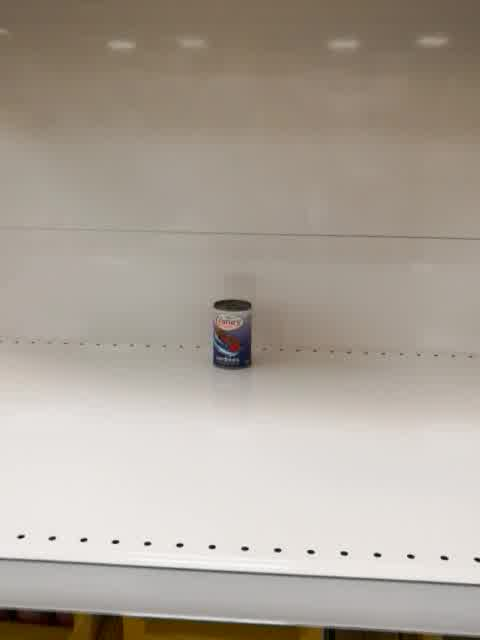sardine: (212, 299, 254, 371)
